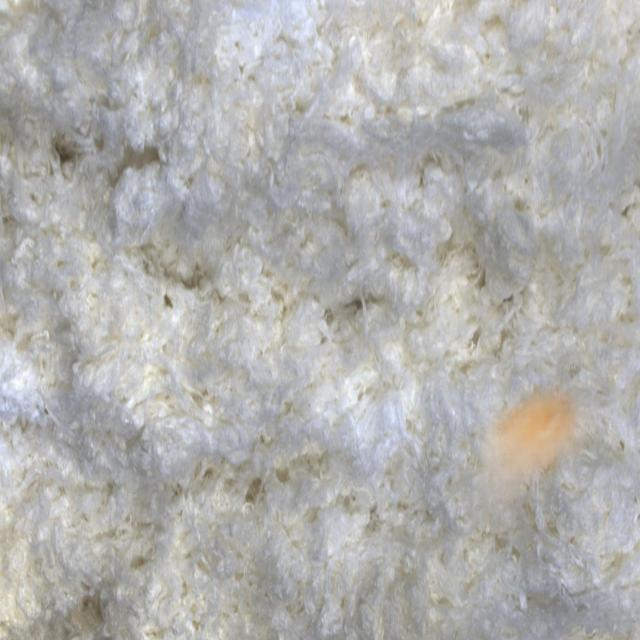dust: (464, 379, 607, 551)
